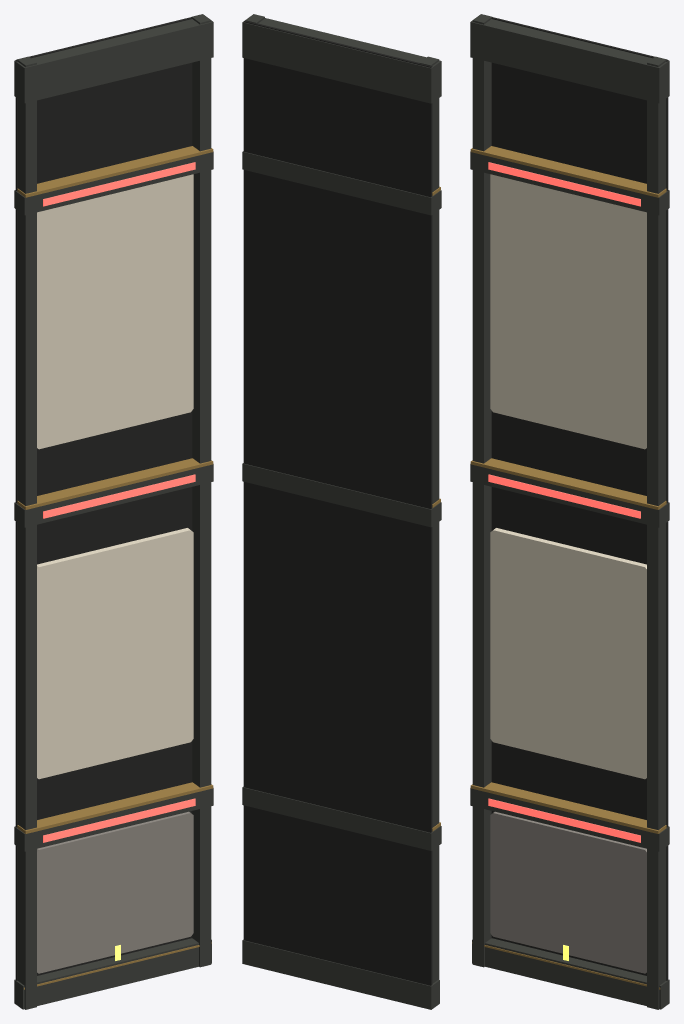
File: b4_arena_panel.glb
The picture shows the model from 3 angles, left to right: view 1: azimuth 30°, elevation 25°; view 2: azimuth 150°, elevation 25°; view 3: azimuth 330°, elevation 25°; orthographic projection.
Visible parts, largest first — view 1: b4_arena_panel; view 2: b4_arena_panel; view 3: b4_arena_panel.
Part boxes in pixels (left/top/right/bottom): b4_arena_panel: left=14, top=14, right=213, bottom=1009; b4_arena_panel: left=242, top=14, right=441, bottom=1009; b4_arena_panel: left=470, top=14, right=669, bottom=1009.
Bounding box in the file's own units: 3.36 × 16.03 × 0.33.
